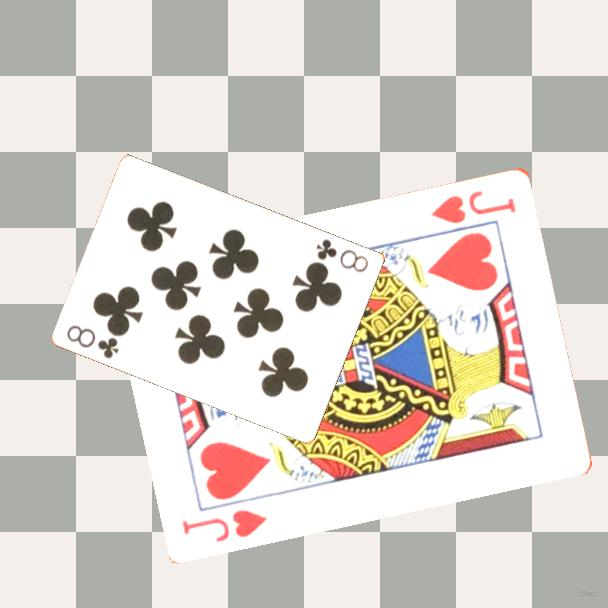c08: (63, 321, 122, 362), (313, 235, 372, 275)
h11: (179, 505, 271, 545), (428, 186, 519, 226)
